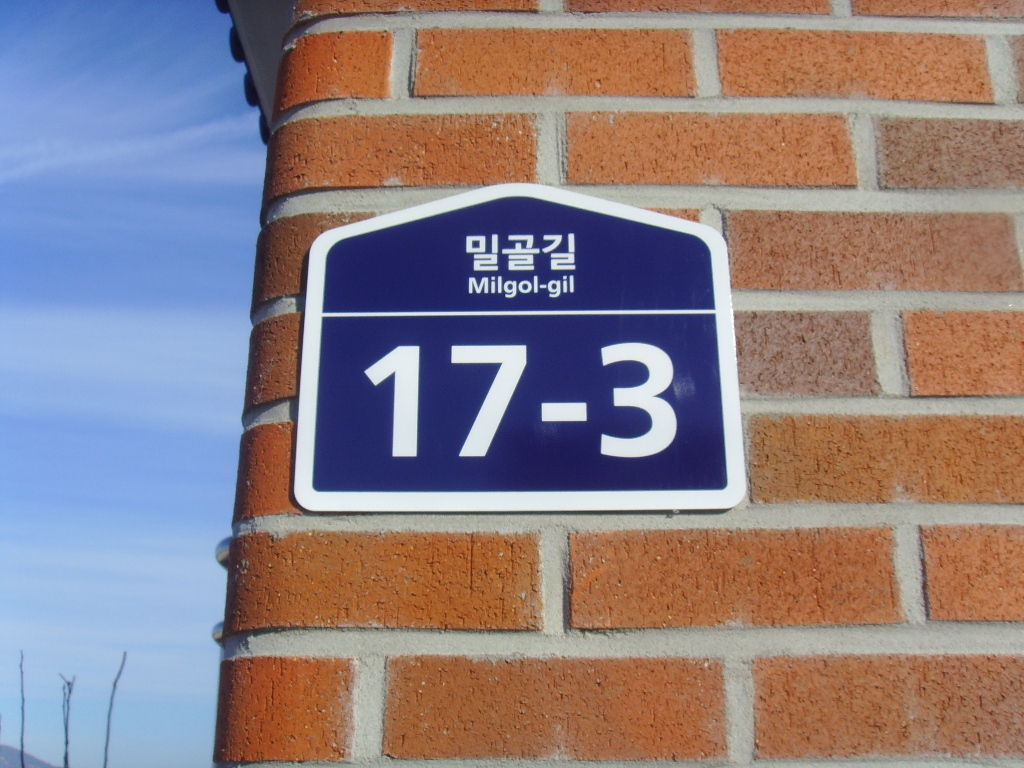building_license_plate1: (292, 180, 746, 513)
